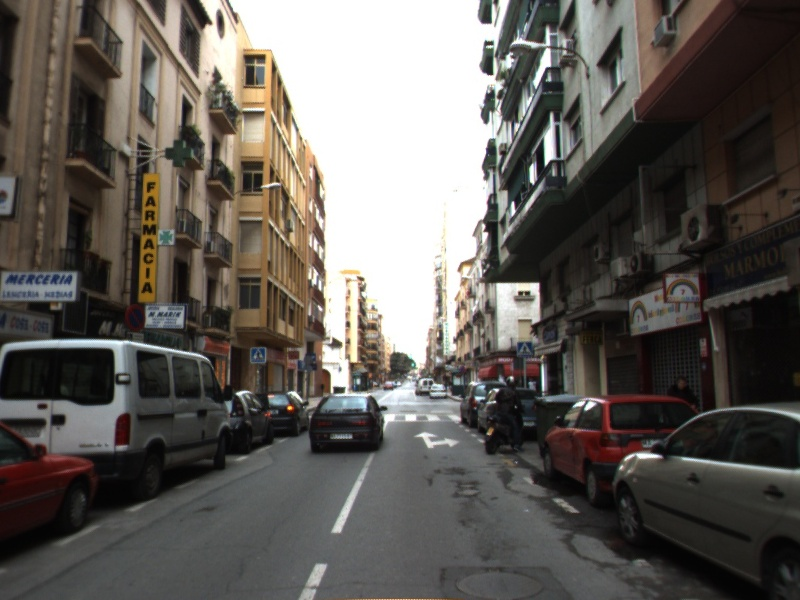STRAIGHT_RIGHT: (412, 430, 461, 450)
